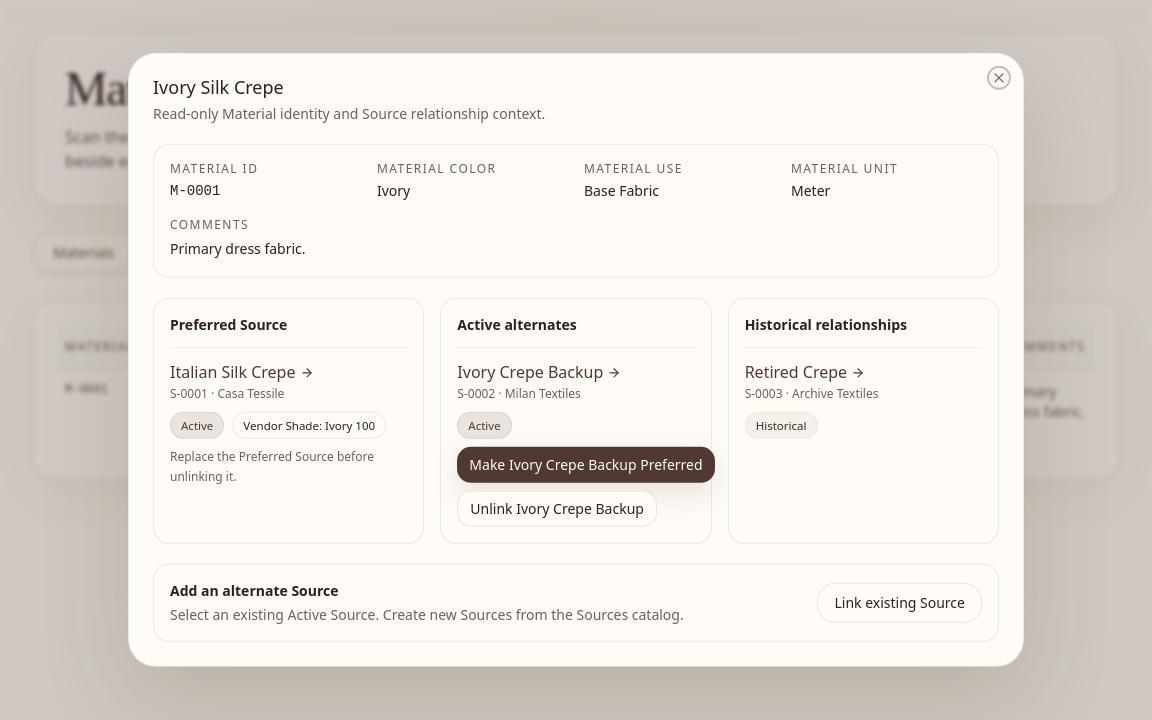
it: materials route › keeps the Dialog open and explains a Preferred replacement failure
This screenshot has width=1152, height=720.
What coordinates should you click on to do the following:
click the button "Make Ivory Crepe Backup Preferred"
I would click on:
 (586, 465)
Its box is [457,447,715,483].
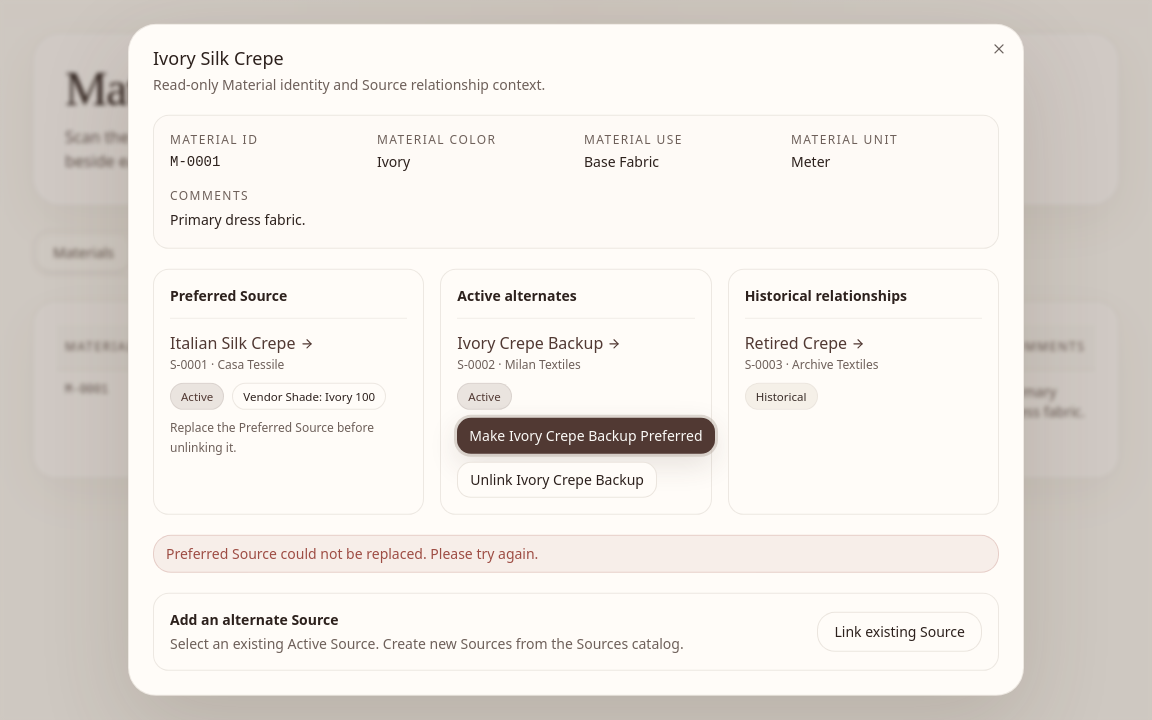
Expected: the element "Preferred Source" shows "Italian Silk Crepe", [170,332,314,354]
Expected: the message reads "Preferred Source could not be replaced. Please try again.", [166,544,538,563]
